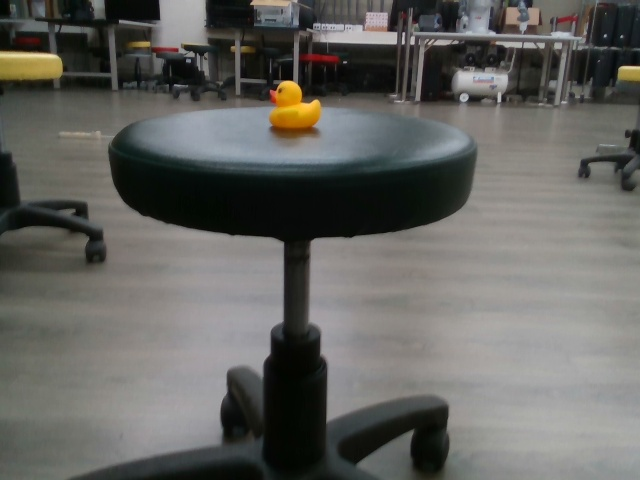duck: (265, 76, 323, 135)
